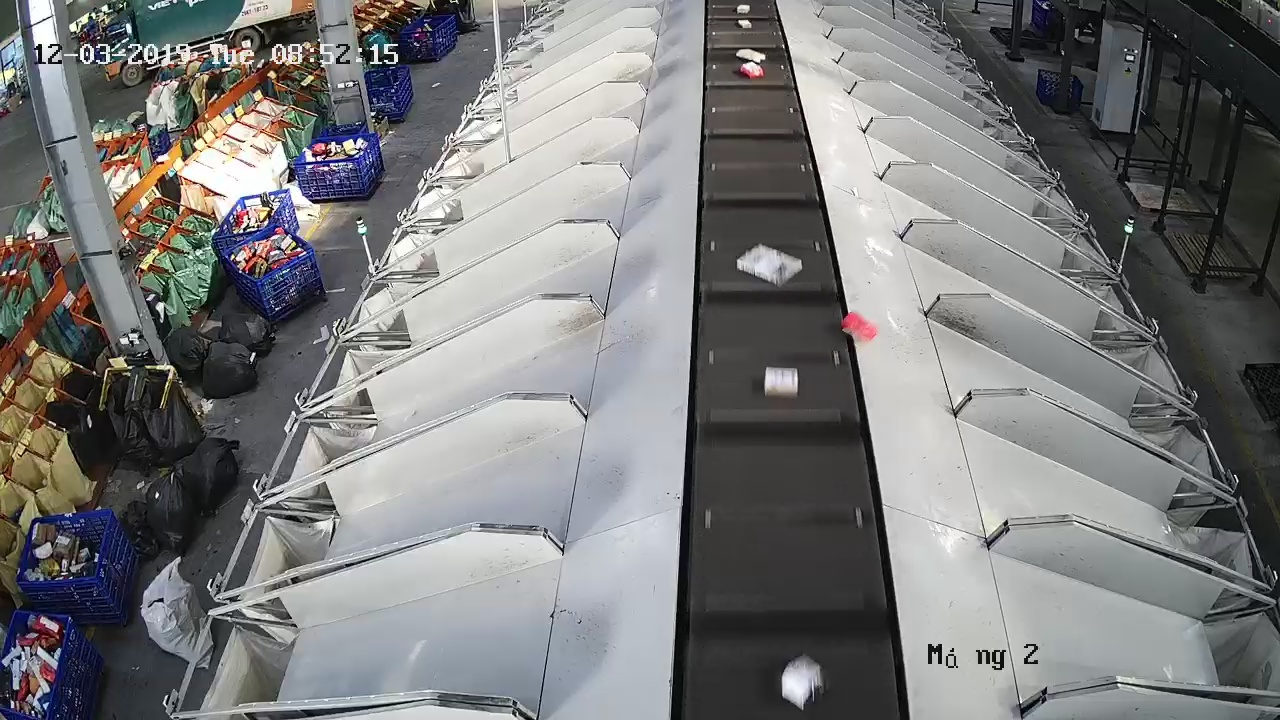parcel: (772, 649, 830, 713), (734, 241, 805, 289), (762, 364, 800, 401), (839, 309, 879, 343)
